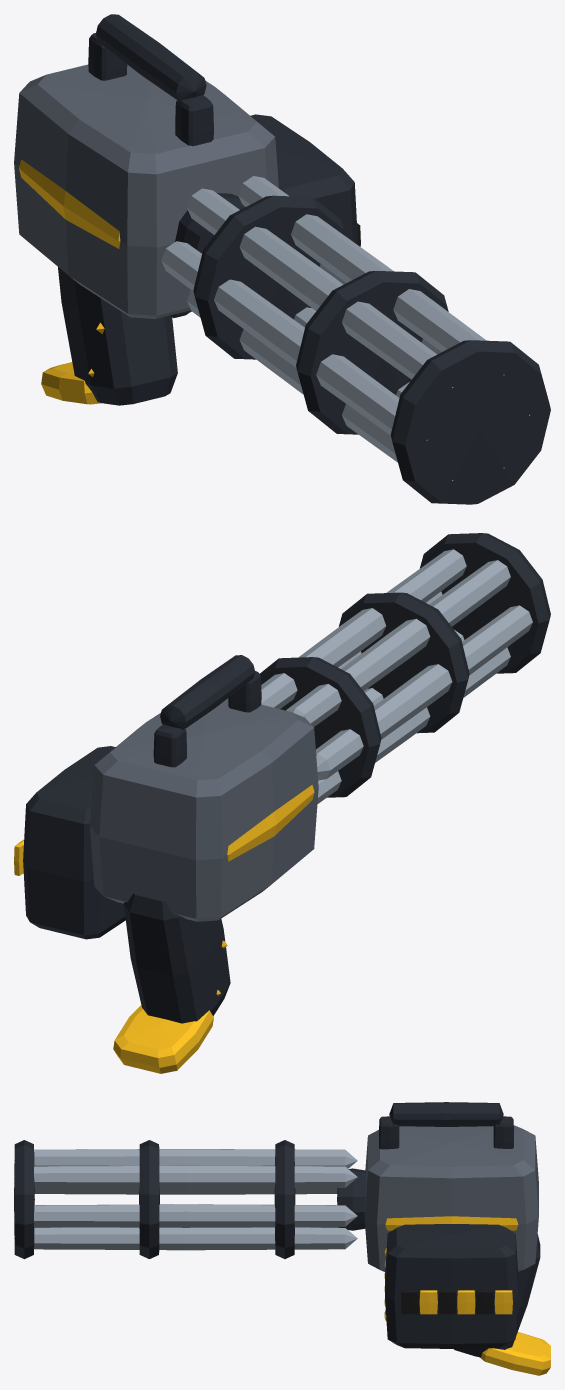
File: g-heavy-1.glb
3 views of the same model, one above another, from view 1: azimuth 30°, elevation 25°; view 2: azimuth 150°, elevation 25°; view 3: azimuth 270°, elevation 25° (orthographic). The views are drawn at different scales.
Parts seen in each view (by area): view 1: gun; view 2: gun; view 3: gun.
Part boxes in pixels (x1,y1,x2,y2): gun: [14, 14, 550, 504]; gun: [14, 533, 550, 1073]; gun: [14, 1102, 550, 1375].
Bounding box in the file's own units: 0.38 × 0.5576 × 1.03.
